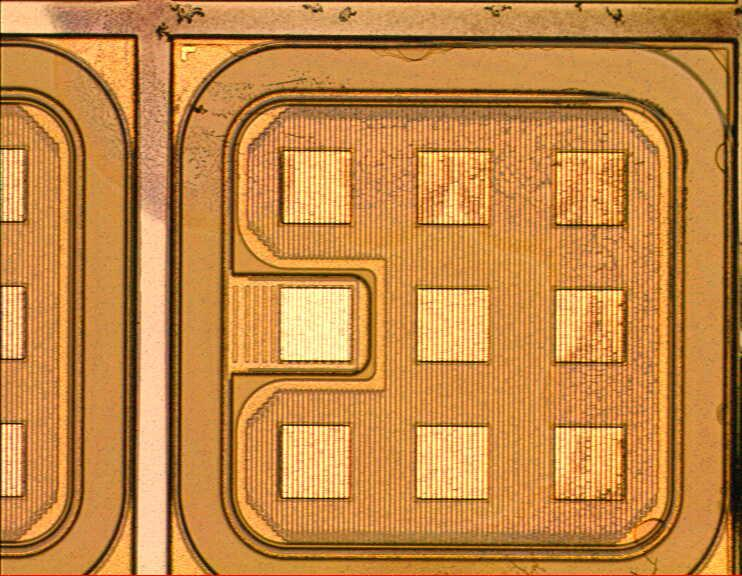SEZ BURNT: (43, 1, 742, 576)
